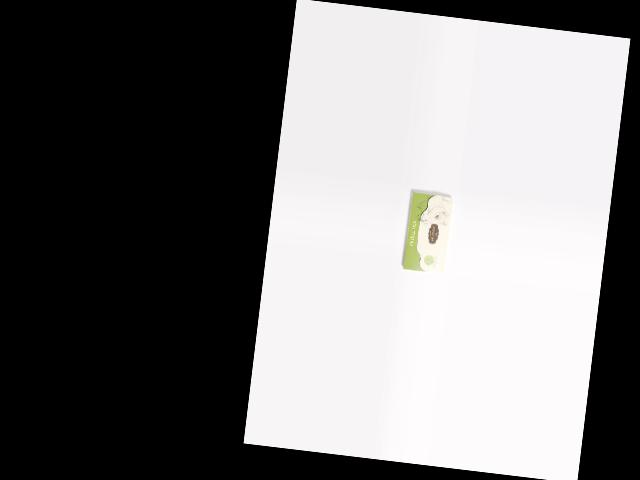chocolate: (401, 190, 454, 275)
